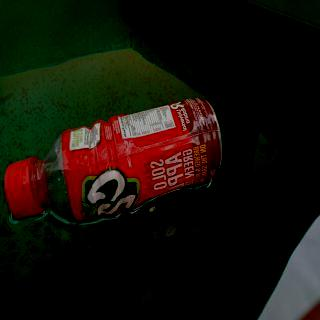bottle: (3, 93, 224, 236)
